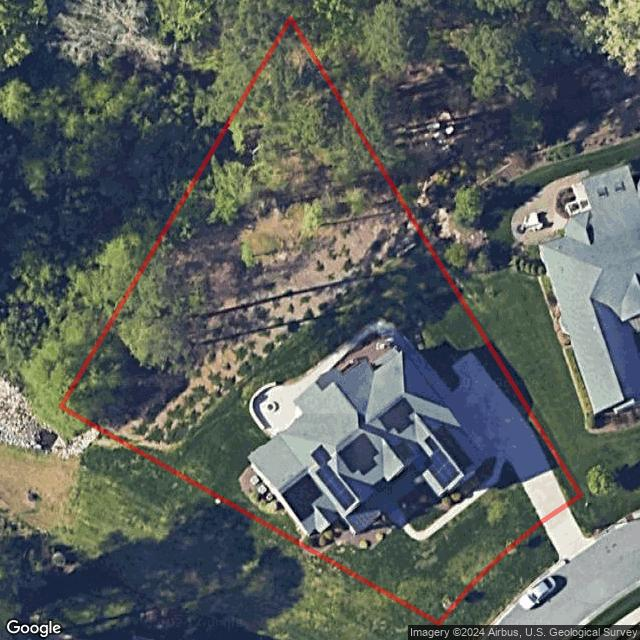Driveway: (443, 352, 568, 523)
Extra-Driveway: (541, 504, 588, 557)
Extra-Lawn: (438, 522, 560, 636), (568, 494, 600, 540)
House: (244, 346, 482, 536)
Lawn: (61, 19, 580, 623)
Other: (60, 15, 427, 451), (248, 317, 450, 439), (396, 458, 496, 531), (301, 510, 397, 556), (238, 465, 286, 515)
Sidewalk: (394, 456, 504, 542)
